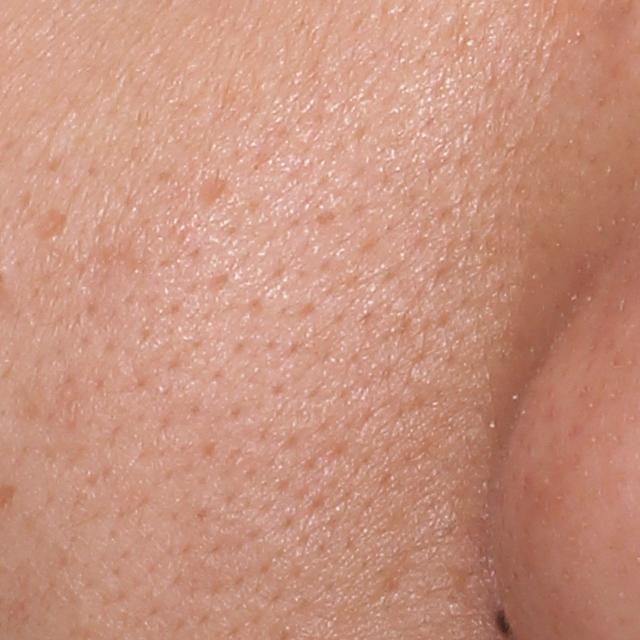atrophic_scar: (190, 172, 229, 212), (29, 208, 68, 239)
nevus: (490, 607, 514, 635)
